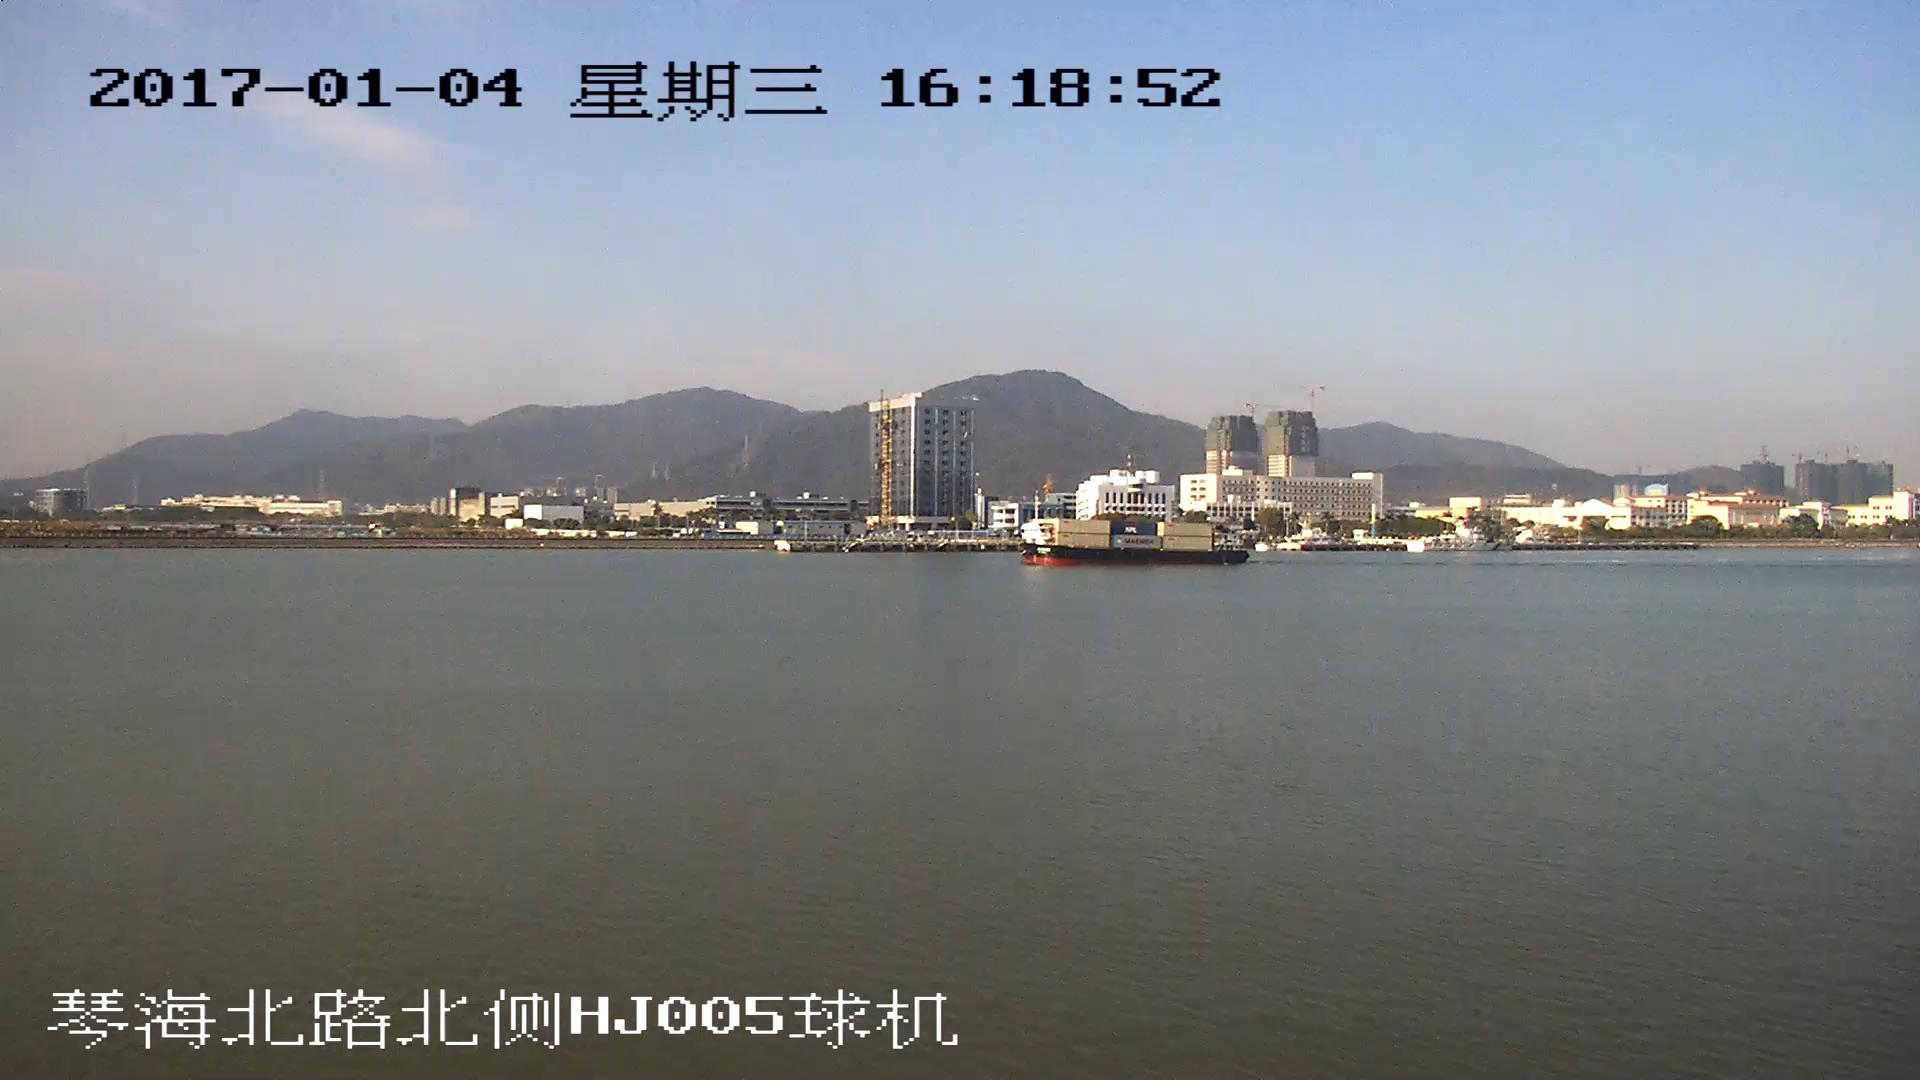Ship: (1022, 516, 1244, 567)
